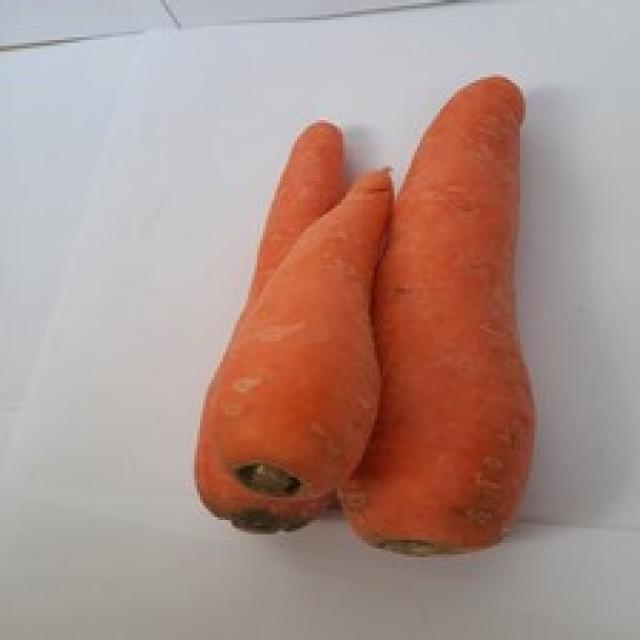carrot: (340, 72, 528, 553), (193, 125, 341, 534), (222, 165, 378, 496)
